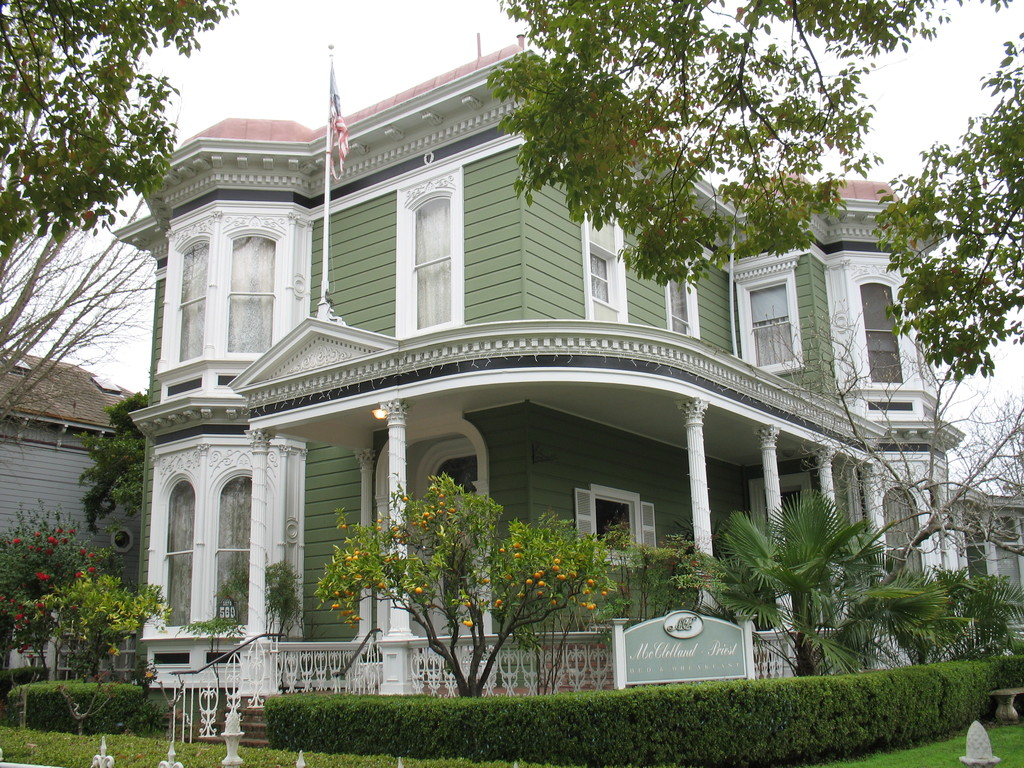Tree: (313, 297, 1024, 698), (483, 0, 1024, 379), (0, 11, 183, 424), (0, 0, 237, 259), (0, 496, 126, 680), (18, 569, 174, 684), (67, 385, 149, 541)
